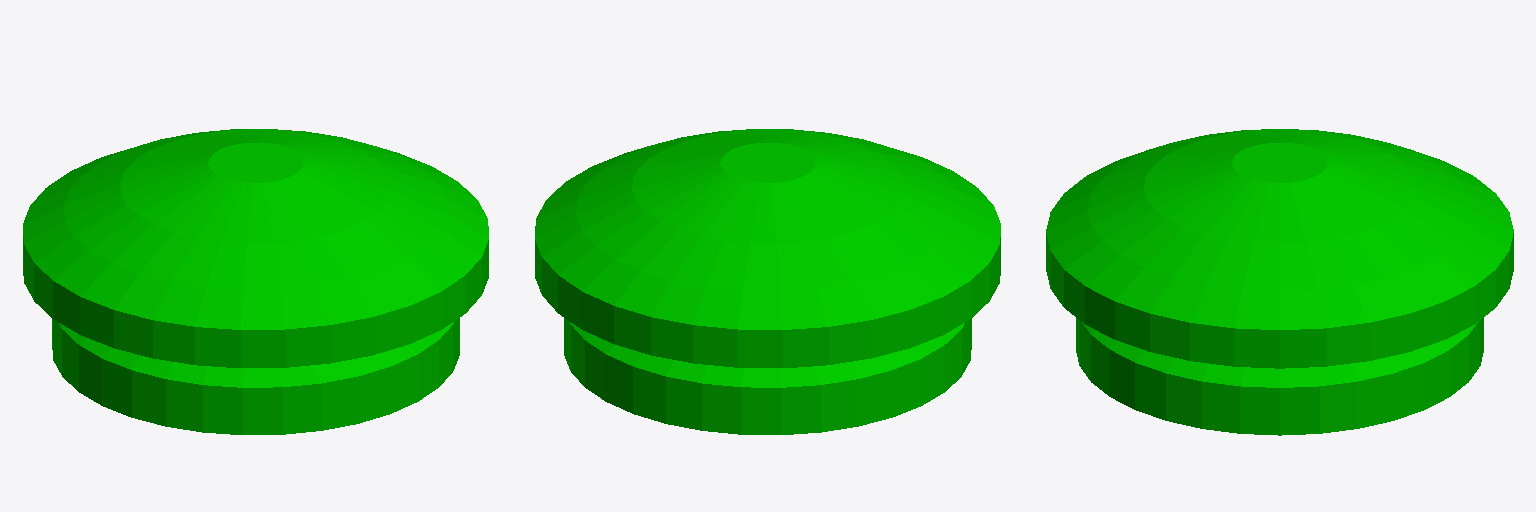
Rendered from bumper.obj.
The picture shows the model from 3 angles: view 1: azimuth 30°, elevation 25°; view 2: azimuth 150°, elevation 25°; view 3: azimuth 270°, elevation 25°; orthographic projection.
Visible parts, largest first — view 1: Cylinder.002; view 2: Cylinder.002; view 3: Cylinder.002.
Part boxes in pixels (x1,y1,x2,y2): Cylinder.002: (23,129,488,434); Cylinder.002: (535,129,1000,434); Cylinder.002: (1046,129,1513,435).
Bounding box in the file's own units: 0.7419 × 0.326 × 0.7419.